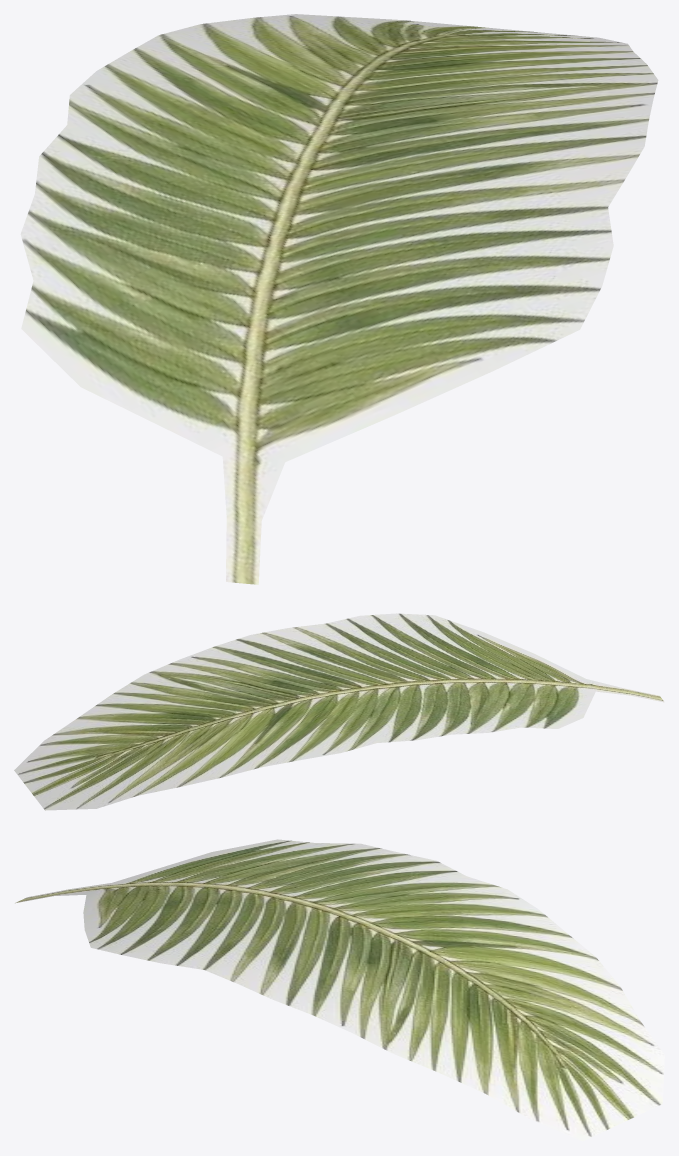
Rendered from turtle-prop-frond.glb.
The picture shows the model from 3 angles, top to bottom: view 1: azimuth 30°, elevation 25°; view 2: azimuth 150°, elevation 25°; view 3: azimuth 270°, elevation 25°; orthographic projection. The views are drawn at different scales.
Parts seen in each view (by area): view 1: frond; view 2: frond; view 3: frond.
Part boxes in pixels (<box>): frond: <box>20,14,658,584</box>; frond: <box>14,613,664,810</box>; frond: <box>15,839,664,1141</box>.
Bounding box in the file's own units: 0.0683 × 0.0107 × 0.0769.
1 material, 1 textured.
